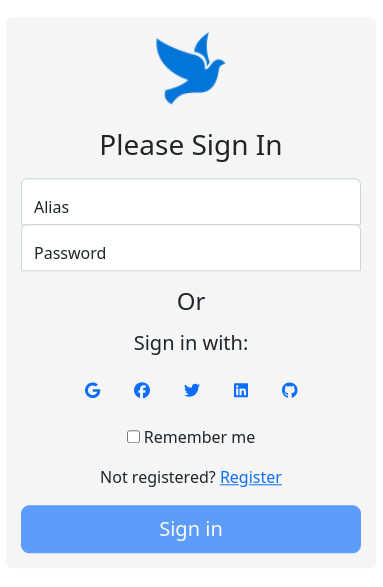
Test: Login Component › enables the sign-in button if both alias and password fields have text.
Type "name" into the field labelled "Alias". click: (191, 201)
box: x1=21 y1=178 x2=361 y2=225
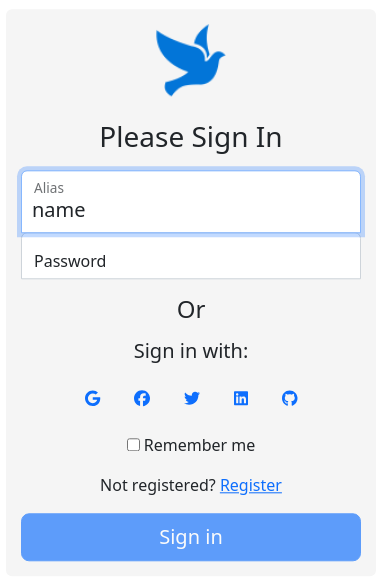
Type "pass" into the password field labelled "Password". click: (191, 255)
box: x1=21 y1=232 x2=361 y2=279
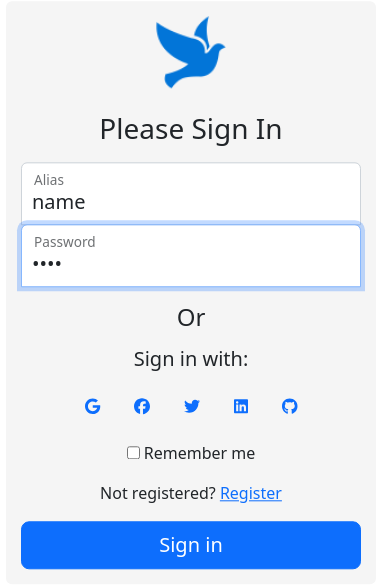
expect the button "Sign in" is enabled: met, box x1=21 y1=522 x2=361 y2=570
